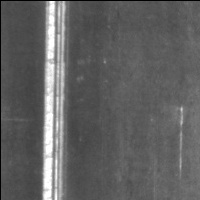scratches: (40, 1, 72, 200)
